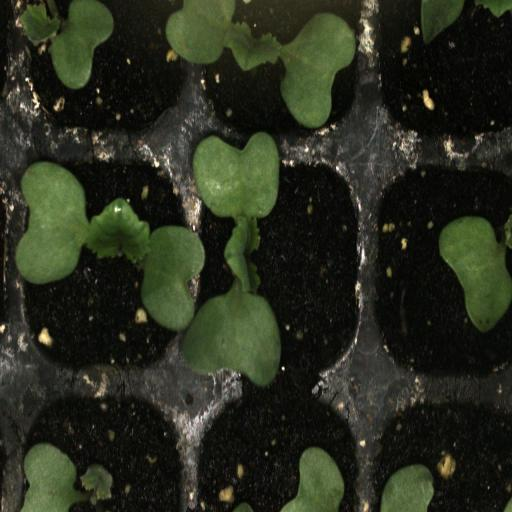Folha: (439, 216, 512, 332), (20, 0, 114, 90), (281, 447, 344, 512), (380, 464, 434, 512)
Germinacao: (189, 142, 370, 376), (14, 142, 189, 382), (190, 0, 372, 139)
